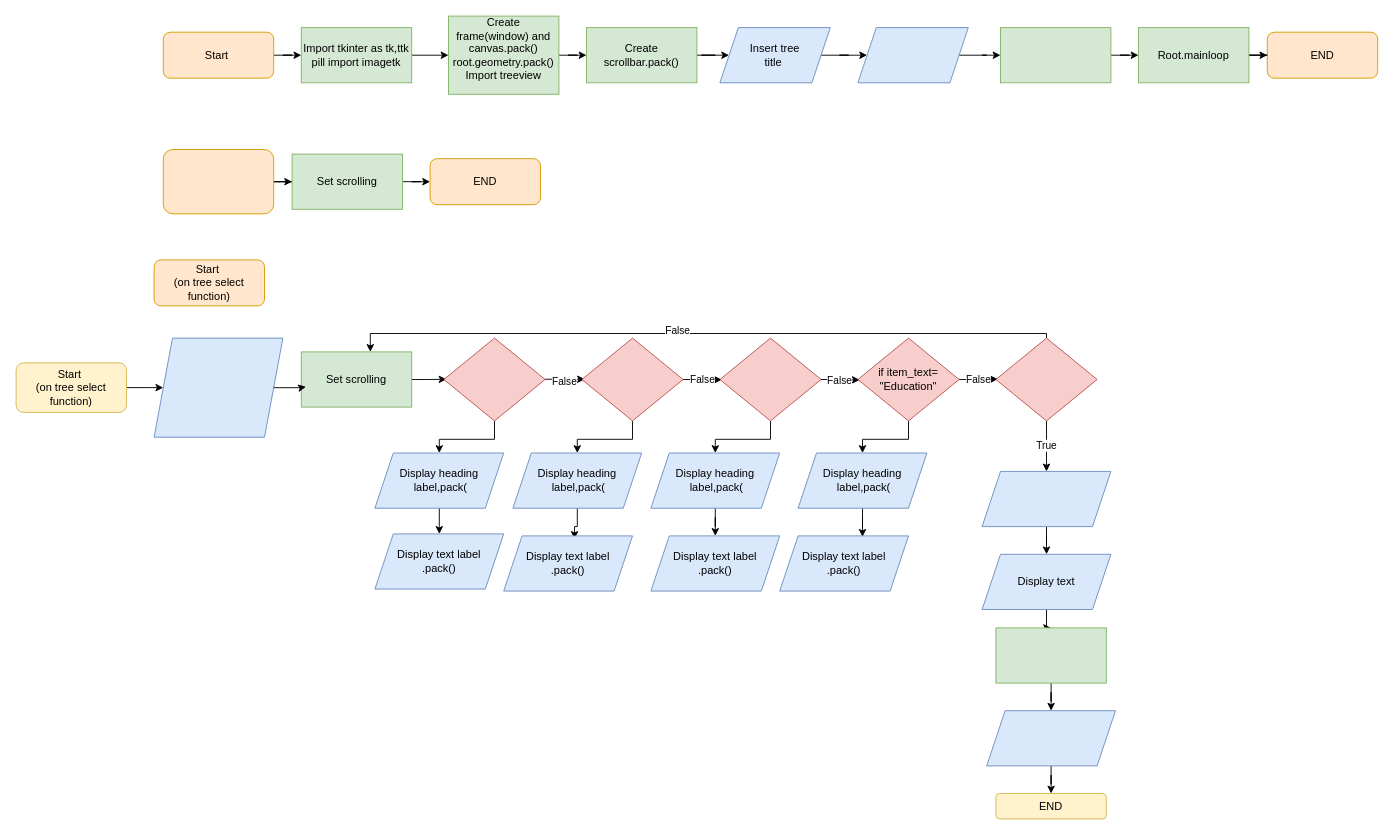
The diagram is 1394 pixels wide and 835 high, and some of its shapes have lost their labels. The centre of each missing label's shape, as x and y in pixels:
Display heading: (1046,498)
Display image: (1051,738)
For loop everytime user clicks on sub child/child: (218,387)
if item_text= "Basic computing": (494,379)
if item_text= "Business ": (770,379)
if item_text= "Greyscale tech": (632,379)
If subchilds (around 30 more of these): (1046,379)
insert rest of the contents of treeview: (912,55)
Open image as image.tk: (1050,655)
run ontree select function and on_frame_configure: (1055,55)
Start (on on_frame_configure function): (218,181)
